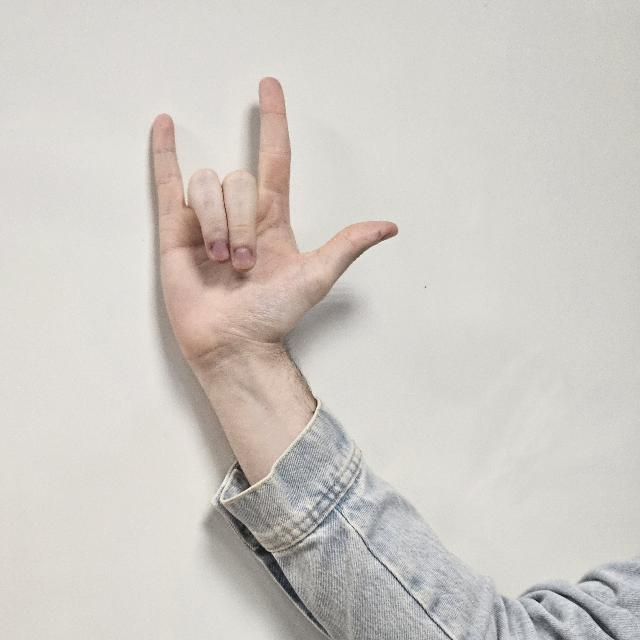Cima: (145, 74, 397, 376)
